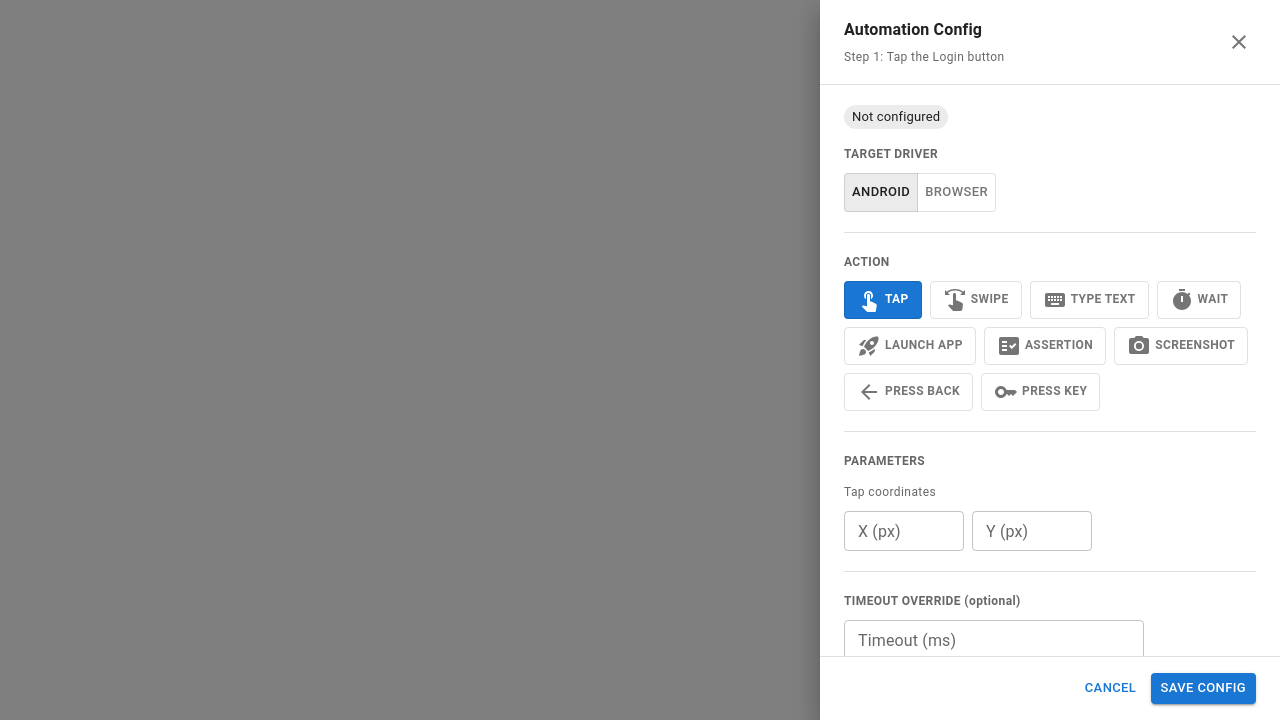
Test case: AutomationConfigEditor — action-specific param fields › shows assertion type dropdown for assertion action
Click the button "Assertion" at (1045, 346), box [984,327,1106,365]
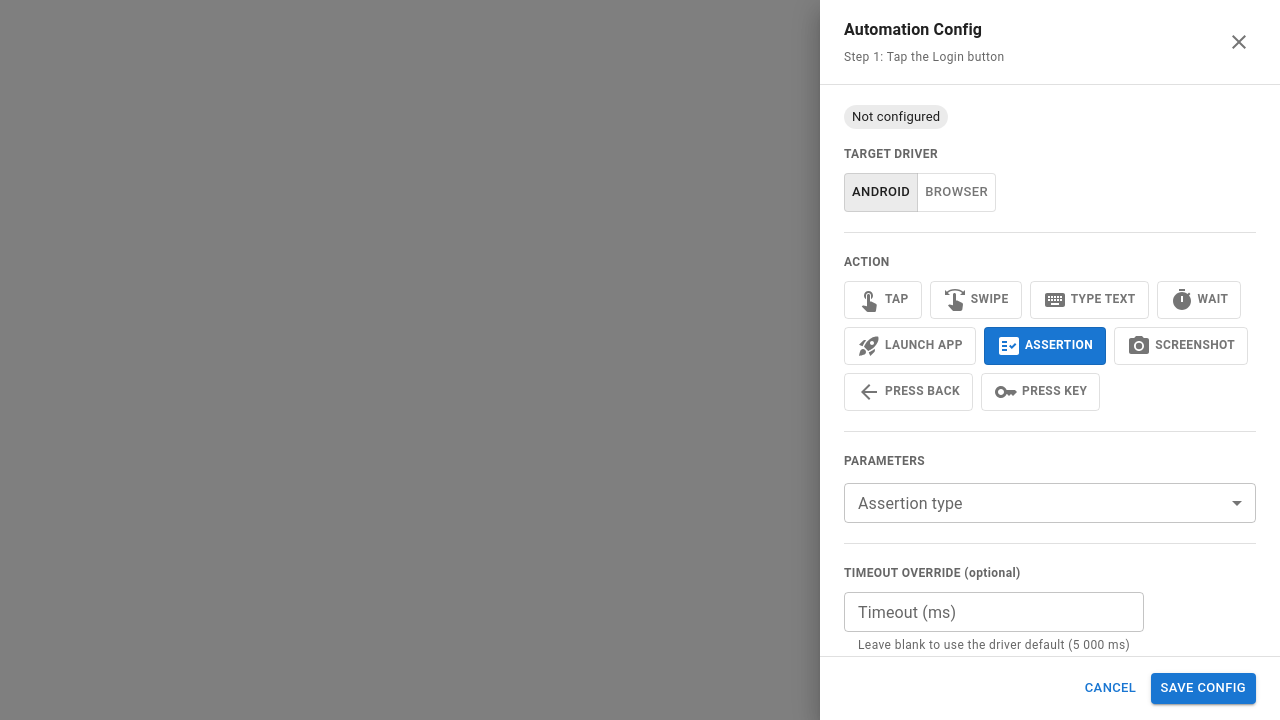
Expected: the dropdown is shown, [844,484,1256,524]
